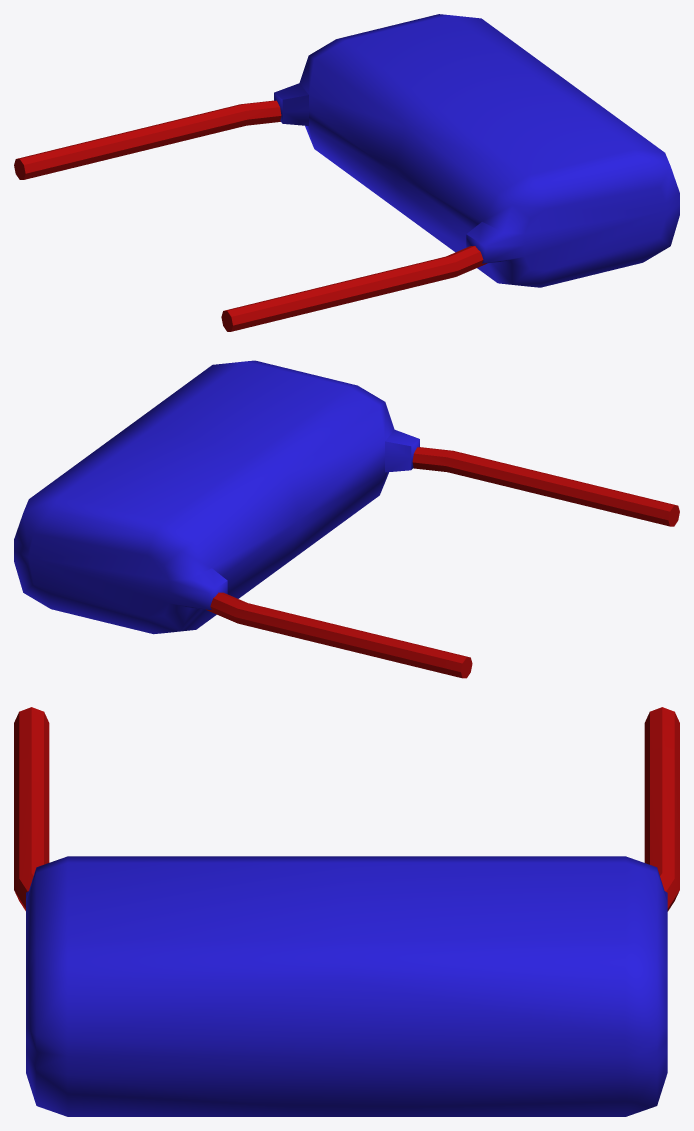
The model's file is elements022.fbx.
3 views of the same model, one above another, from view 1: azimuth 30°, elevation 25°; view 2: azimuth 150°, elevation 25°; view 3: azimuth 270°, elevation 25° (orthographic). The views are drawn at different scales.
Visible parts, largest first — view 1: element022_LOD0; view 2: element022_LOD0; view 3: element022_LOD0.
Part boxes in pixels (bbox=[...]): element022_LOD0: bbox=[14, 14, 679, 331]; element022_LOD0: bbox=[14, 360, 679, 678]; element022_LOD0: bbox=[14, 707, 679, 1116].
Size of what is drawn, in the model's own units: 0.8762 by 0.2031 by 0.7222.
